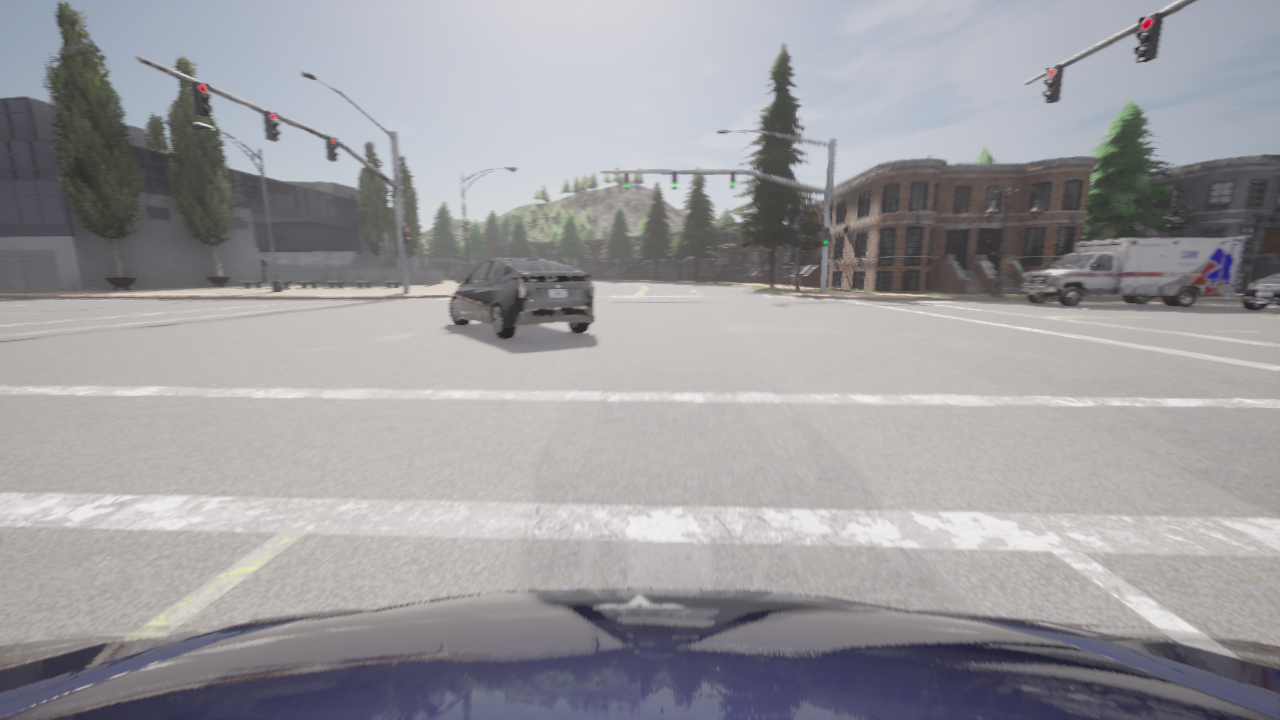cyclist: (0, 588, 1279, 719), (1020, 237, 1245, 306), (449, 257, 593, 338), (1242, 273, 1279, 310)
